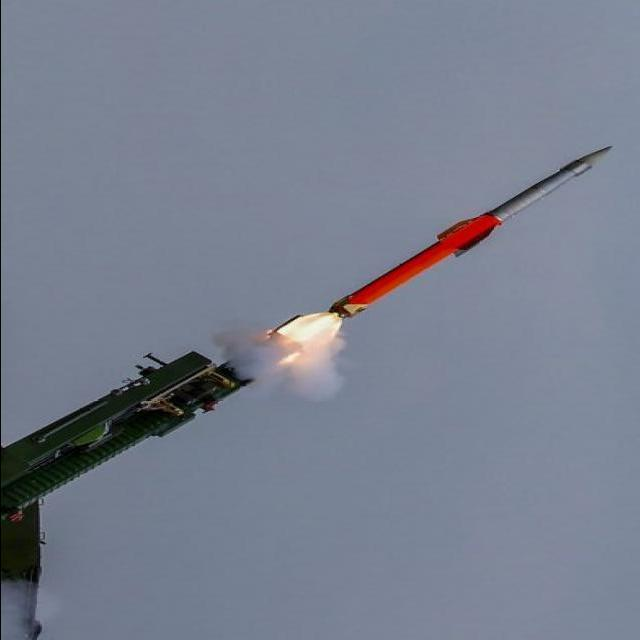missile: (282, 135, 625, 345)
